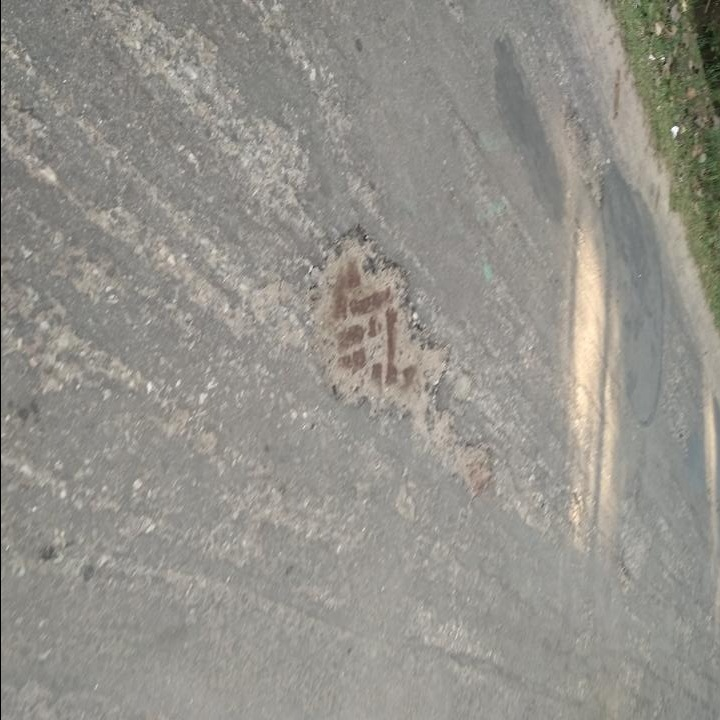pothole: (299, 213, 453, 426), (562, 101, 610, 210), (446, 440, 497, 496)
